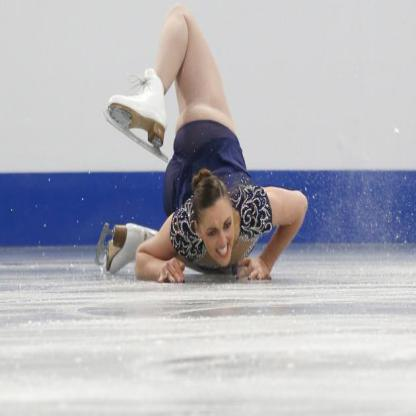Fall_Down: (104, 6, 309, 287)
